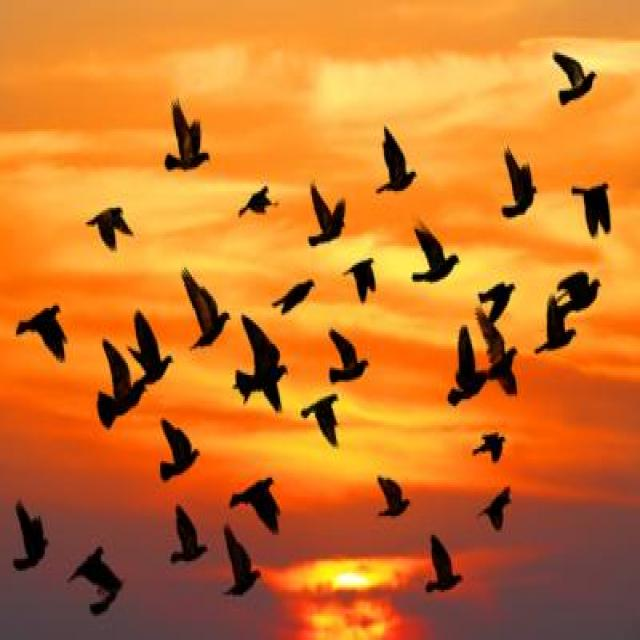birds: (233, 308, 296, 411), (66, 528, 132, 622), (172, 262, 232, 353), (156, 94, 218, 181), (472, 308, 524, 401), (95, 332, 143, 426), (369, 118, 424, 199), (154, 412, 210, 490), (442, 313, 488, 406), (218, 512, 263, 606), (403, 218, 460, 289), (13, 302, 75, 363), (494, 145, 540, 226), (228, 470, 278, 544), (129, 311, 172, 392), (320, 326, 372, 391), (12, 494, 49, 582), (304, 178, 350, 248), (570, 175, 620, 238), (164, 499, 206, 574), (558, 256, 602, 327), (548, 49, 597, 108), (534, 294, 577, 360), (302, 387, 346, 451), (81, 200, 137, 250), (272, 269, 321, 319), (476, 274, 518, 332), (476, 478, 514, 541), (424, 531, 460, 597), (341, 253, 381, 307), (232, 178, 282, 220), (376, 475, 411, 528), (469, 422, 506, 468)
